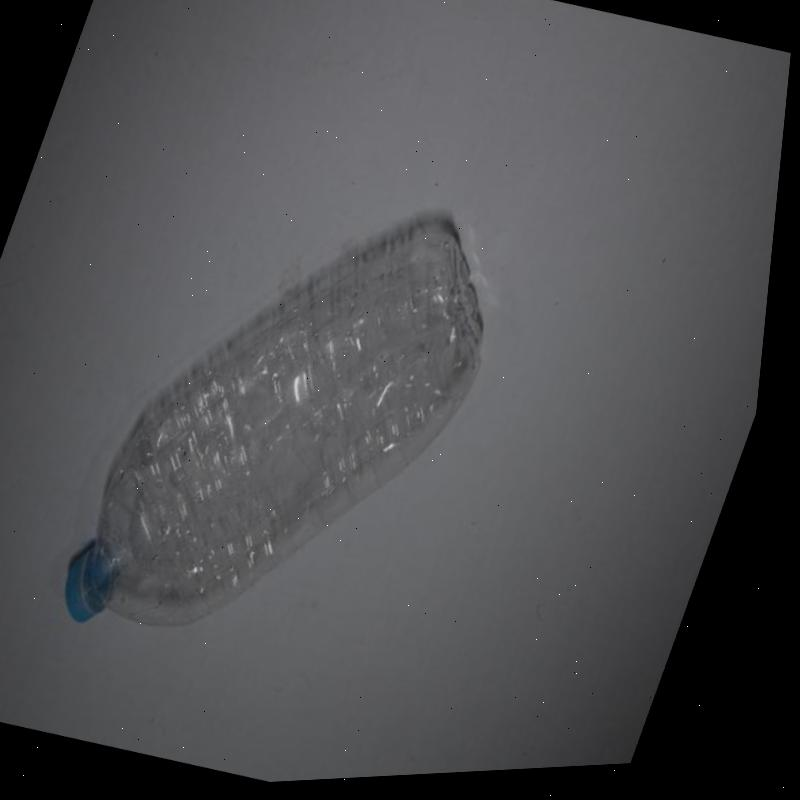botella: (53, 160, 539, 706)
